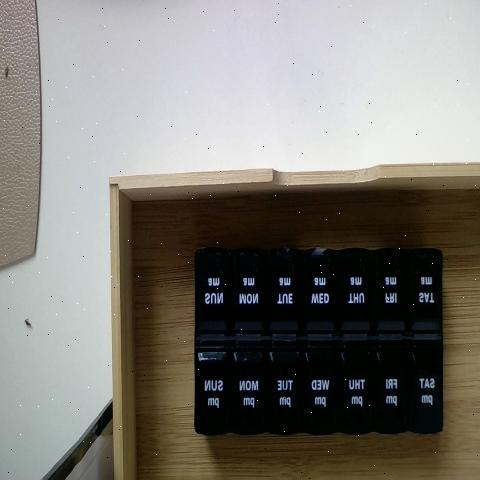FRI-am: (381, 242, 412, 330)
FRI-pm: (375, 346, 406, 430)
MON-am: (236, 244, 268, 332)
MON-pm: (229, 340, 268, 424)
SAT-am: (405, 244, 442, 340)
SAT-pm: (407, 342, 445, 434)
SUN-am: (198, 248, 233, 336)
SUN-pm: (200, 346, 234, 426)
THU-am: (342, 248, 374, 335)
THU-pm: (339, 343, 376, 429)
TUE-am: (272, 250, 306, 336)
TUE-pm: (272, 344, 308, 434)
WED-am: (307, 246, 340, 337)
WED-pm: (308, 344, 344, 435)
